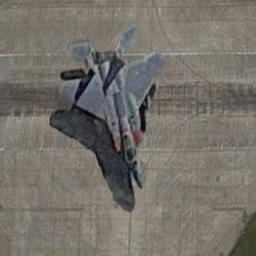Airplane: (62, 22, 166, 192)
